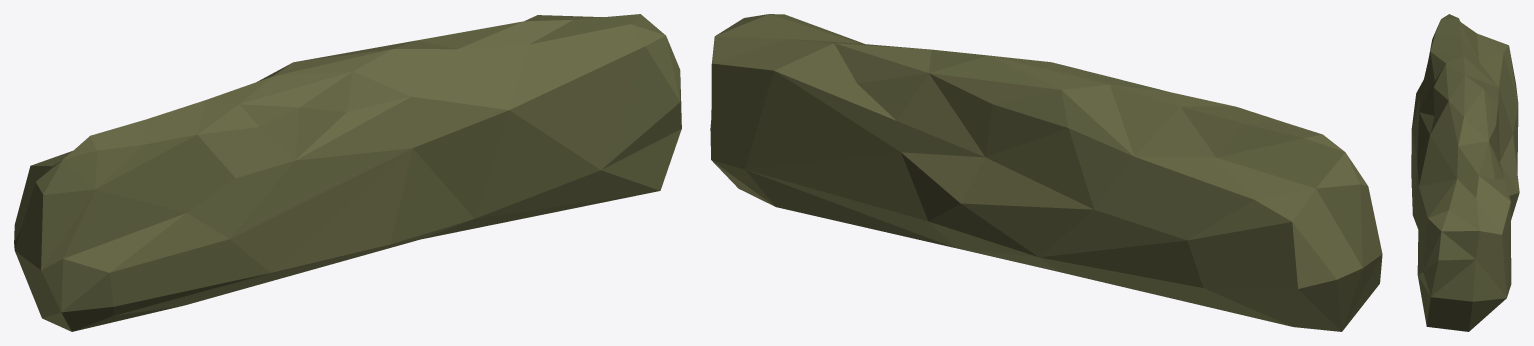
The model's file is env_hedge.gltf.
The picture shows the model from 3 angles, left to right: view 1: azimuth 30°, elevation 25°; view 2: azimuth 150°, elevation 25°; view 3: azimuth 270°, elevation 25°; orthographic projection. The views are drawn at different scales.
Parts seen in each view (by area): view 1: env_hedge; view 2: env_hedge; view 3: env_hedge.
Part boxes in pixels (x1=…): env_hedge: x1=14, y1=14, x2=681, y2=331; env_hedge: x1=710, y1=14, x2=1382, y2=331; env_hedge: x1=1411, y1=14, x2=1519, y2=331.
Bounding box in the file's own units: 5.03 × 1.41 × 1.05.
1 material, 1 textured.
